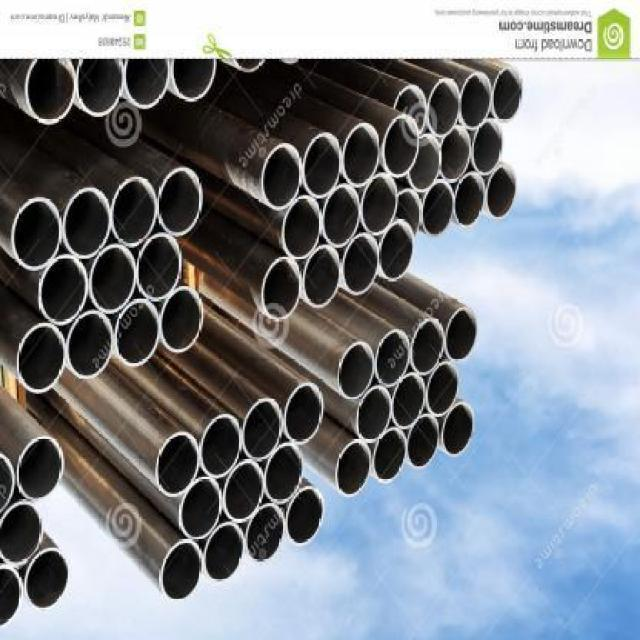pipe: (11, 197, 64, 271), (16, 321, 67, 394), (37, 254, 88, 325), (62, 188, 111, 261), (66, 309, 114, 380), (89, 243, 137, 314), (109, 177, 157, 248), (25, 60, 76, 125), (114, 299, 162, 367), (135, 234, 183, 302), (159, 166, 204, 237), (17, 435, 65, 500), (160, 285, 205, 353), (23, 546, 69, 611), (0, 499, 45, 565), (155, 432, 200, 497), (260, 143, 302, 211), (160, 539, 205, 602), (75, 60, 123, 117), (242, 397, 284, 462), (260, 257, 302, 322), (302, 131, 342, 199), (202, 522, 245, 584), (201, 414, 242, 479), (223, 460, 265, 523), (282, 194, 322, 260), (245, 503, 287, 565), (322, 183, 362, 248), (181, 477, 222, 540), (302, 243, 341, 308), (283, 383, 323, 445), (342, 123, 380, 188), (265, 442, 304, 504), (382, 114, 420, 177), (342, 234, 380, 296), (360, 173, 397, 236), (285, 486, 323, 546), (337, 340, 374, 400), (123, 60, 169, 108), (378, 221, 414, 282), (334, 438, 371, 497), (374, 330, 410, 388), (408, 134, 442, 194), (426, 77, 460, 137), (421, 180, 454, 239), (491, 65, 524, 124), (372, 426, 406, 483), (391, 373, 425, 430), (409, 319, 443, 376), (406, 412, 440, 468), (171, 60, 216, 102), (454, 171, 487, 228), (471, 119, 504, 176), (445, 308, 479, 363), (441, 401, 474, 457), (426, 360, 459, 416), (460, 71, 491, 130), (392, 83, 426, 136), (485, 165, 518, 219), (0, 563, 23, 628), (397, 188, 422, 236)
